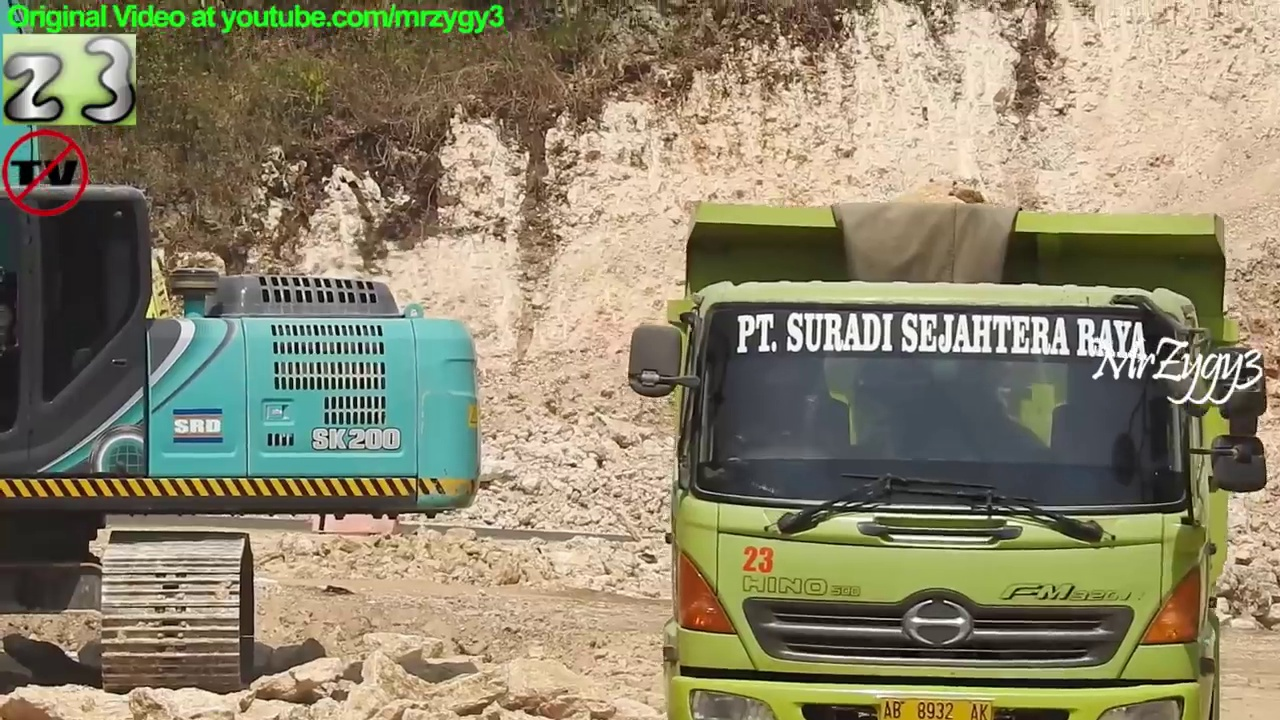excavator: (1, 1, 489, 699)
truck: (626, 195, 1270, 720)
